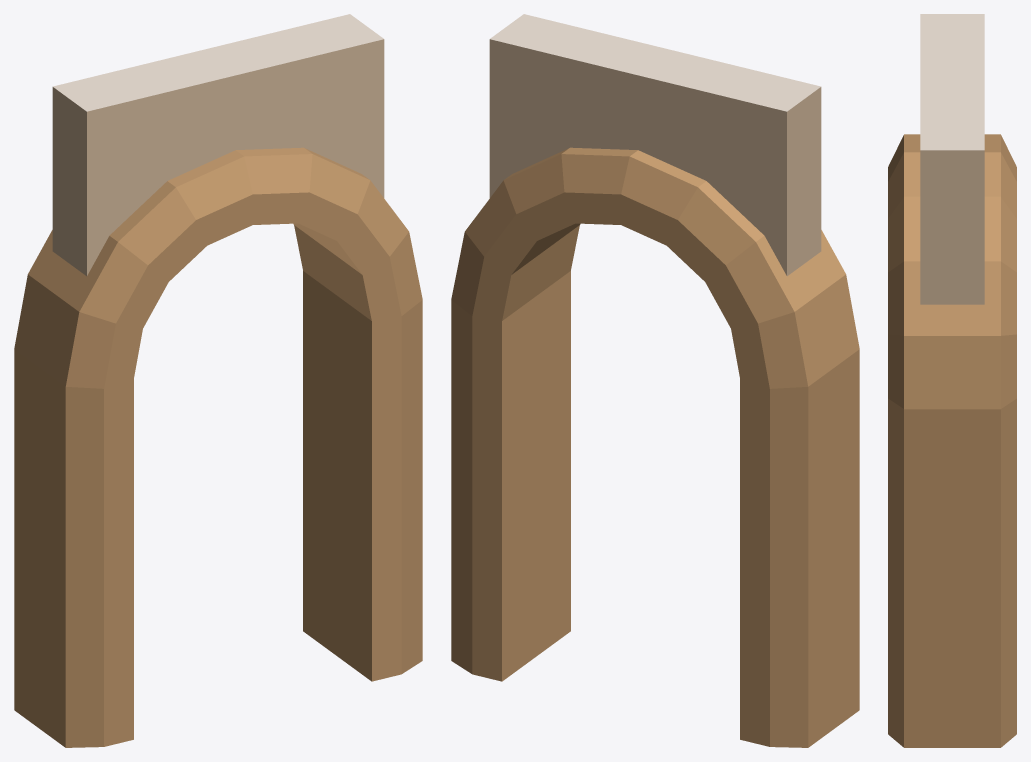
Rendered from Wall_Straight_Doorway.obj.
3 views of the same model, side by side, from view 1: azimuth 30°, elevation 25°; view 2: azimuth 150°, elevation 25°; view 3: azimuth 270°, elevation 25° (orthographic). The views are drawn at different scales.
Visible parts, largest first — view 1: object2, object1; view 2: object2, object1; view 3: object2, object1.
Boxes of the visible parts, left/top/right/bottom form: object2: left=14, top=147, right=422, bottom=747; object1: left=52, top=14, right=384, bottom=276; object2: left=451, top=147, right=859, bottom=747; object1: left=489, top=14, right=821, bottom=276; object2: left=888, top=134, right=1016, bottom=747; object1: left=920, top=14, right=984, bottom=304.
Bounding box in the file's own units: 1.2 × 2 × 0.4.
